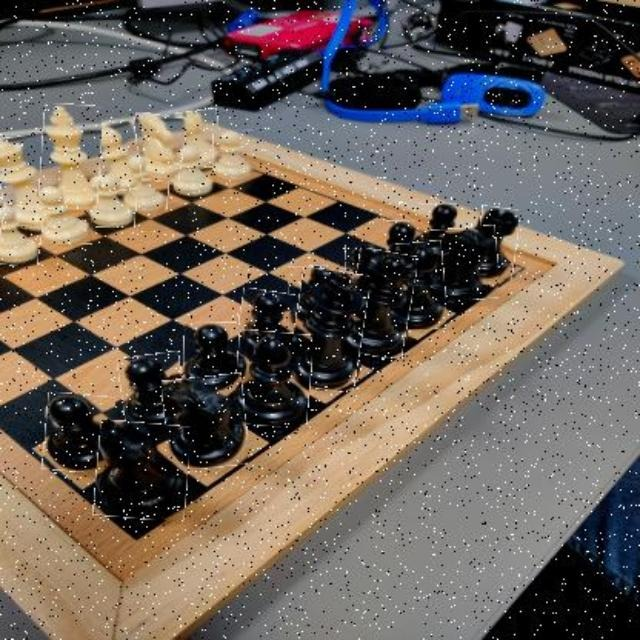black-bishop: (236, 331, 312, 427), (398, 240, 446, 329)
black-king: (291, 268, 367, 391)
black-knight: (164, 376, 247, 468), (433, 228, 499, 300)
black-pawn: (43, 395, 115, 473), (119, 353, 185, 428), (183, 323, 246, 390), (236, 291, 299, 355), (289, 266, 329, 324), (418, 203, 458, 247), (345, 245, 377, 285), (387, 220, 417, 258)
black-queen: (348, 251, 415, 358)
black-rook: (95, 423, 188, 521), (474, 207, 517, 280)
white-bishop: (96, 122, 140, 192)
white-king: (40, 105, 101, 211)
white-knight: (129, 114, 185, 181)
white-pawn: (39, 187, 92, 245), (1, 204, 43, 267), (90, 172, 137, 228), (122, 157, 169, 212), (174, 145, 215, 197), (214, 130, 254, 182)
white-queen: (0, 136, 52, 228)
white-rook: (176, 109, 222, 169)
